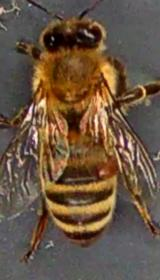varroa_mite: (86, 143, 123, 183)
